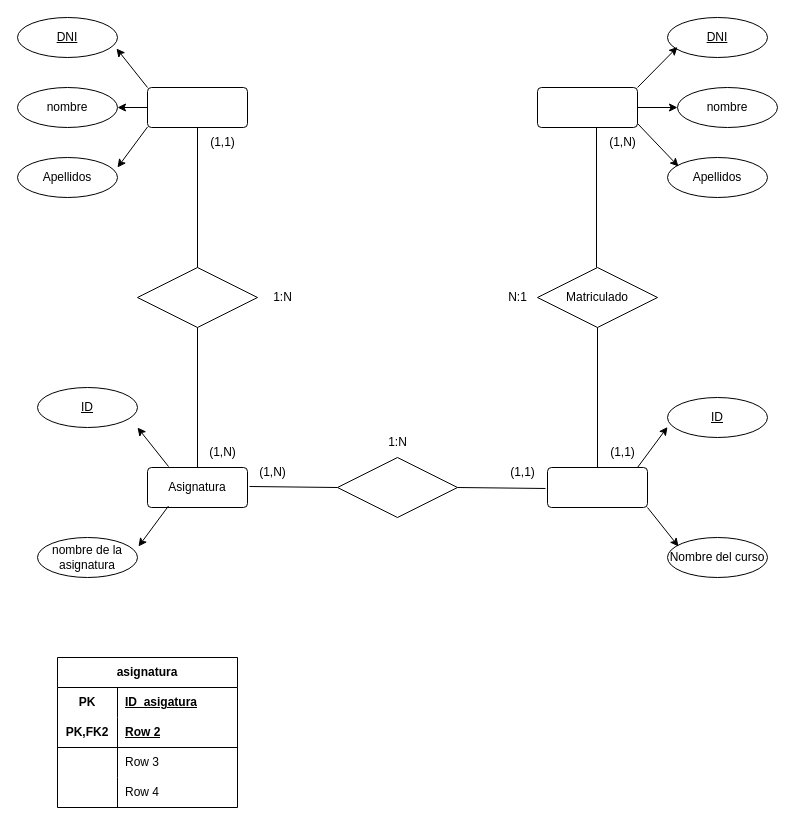
Image size: 795x825. Some labels were removed from this diagram. Here are the shapes that lost their labels. From the top down, the centre of each, then its label:
the point at 197,107: Profesores
the point at 587,107: Alumnos
the point at 197,297: Imparten
the point at 397,487: Pertenece a
the point at 597,487: Cursos
